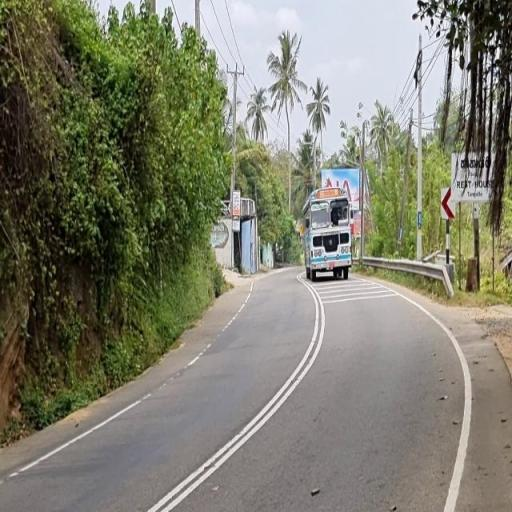double_white_line: (142, 284, 326, 510)
